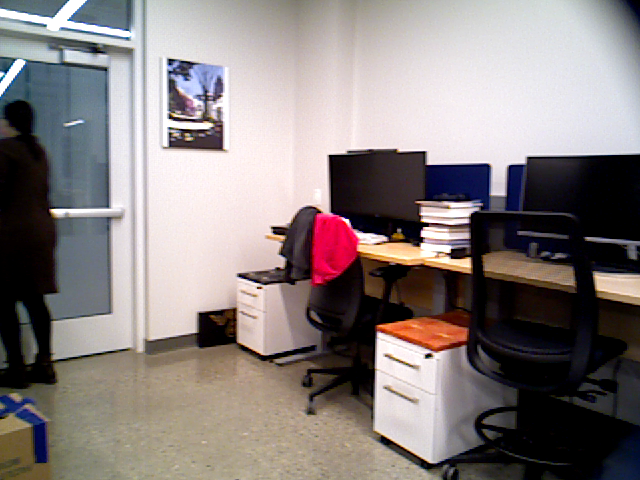painting3: (161, 56, 229, 152)
